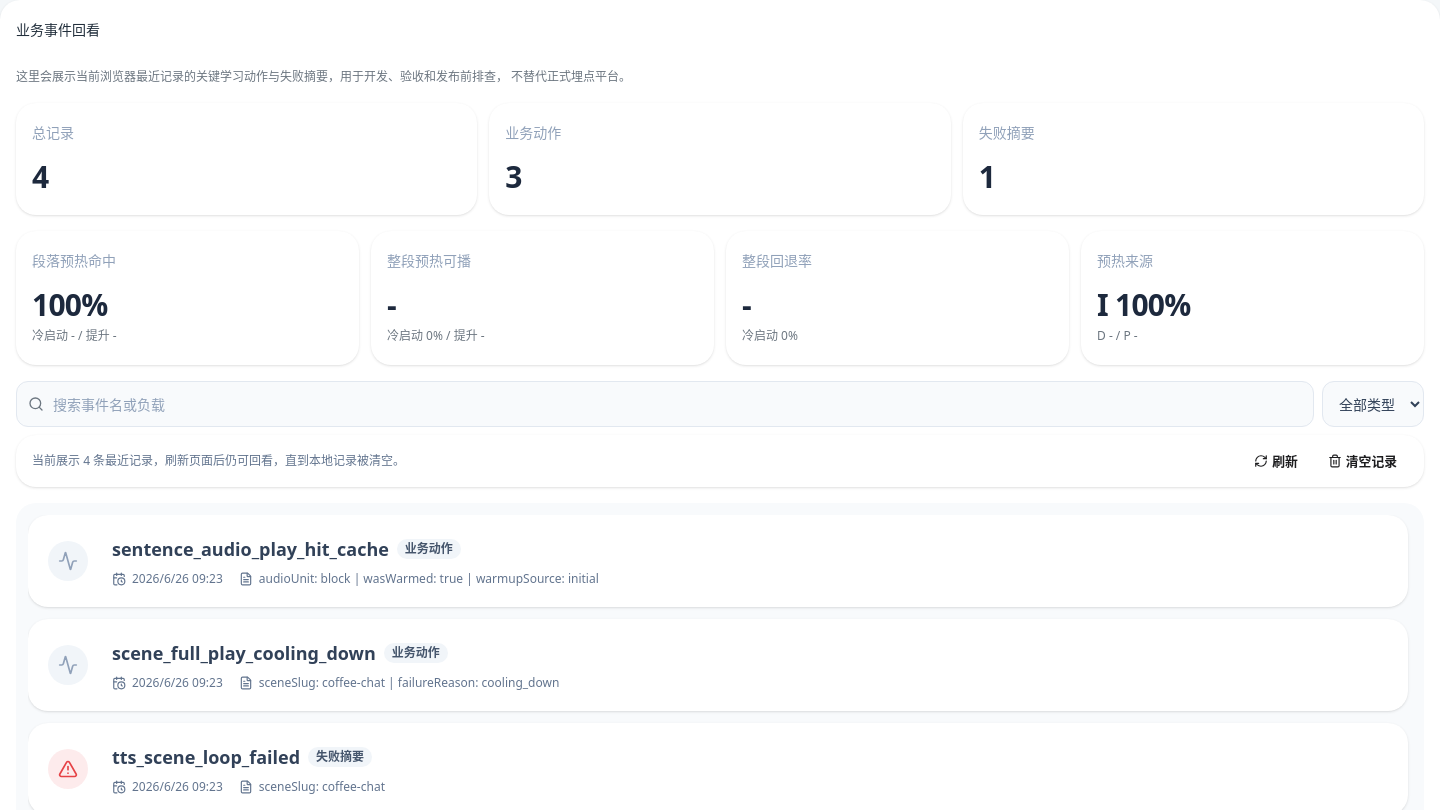
Test: ClientEventsPanel 会展示最近业务事件并支持筛选和清空
Expected: the text "段落预热命中" is shown, [32, 251, 116, 271]
Expected: the text "预热来源" is shown, [1097, 251, 1153, 271]
Select "失败摘要" in the dropdown showing "全部类型" at (1373, 404), box [1322, 381, 1424, 427]
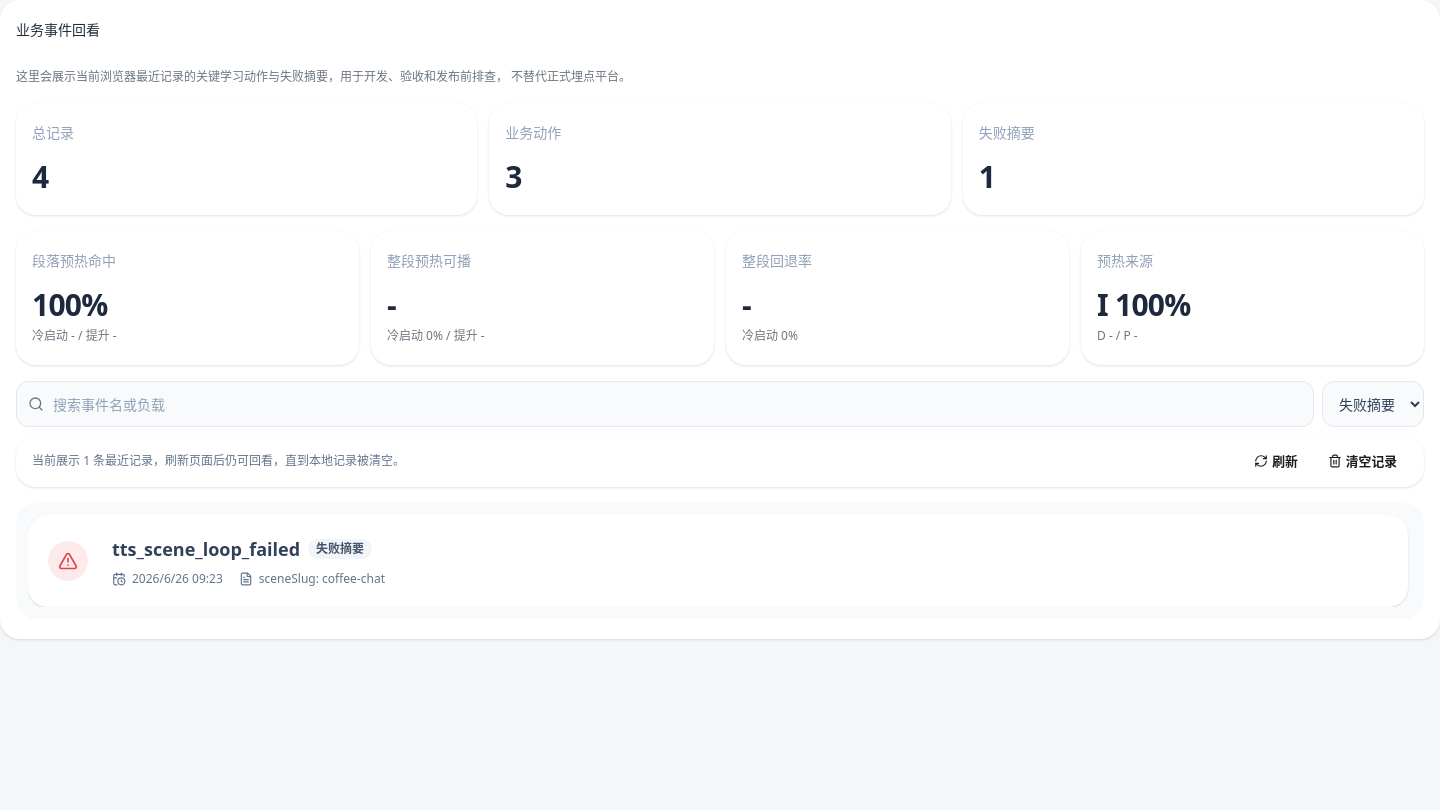
Expected: the text "tts_scene_loop_failed" is shown, [112, 535, 300, 563]
Click the button "清空记录" at (1362, 461), box [1317, 447, 1408, 475]
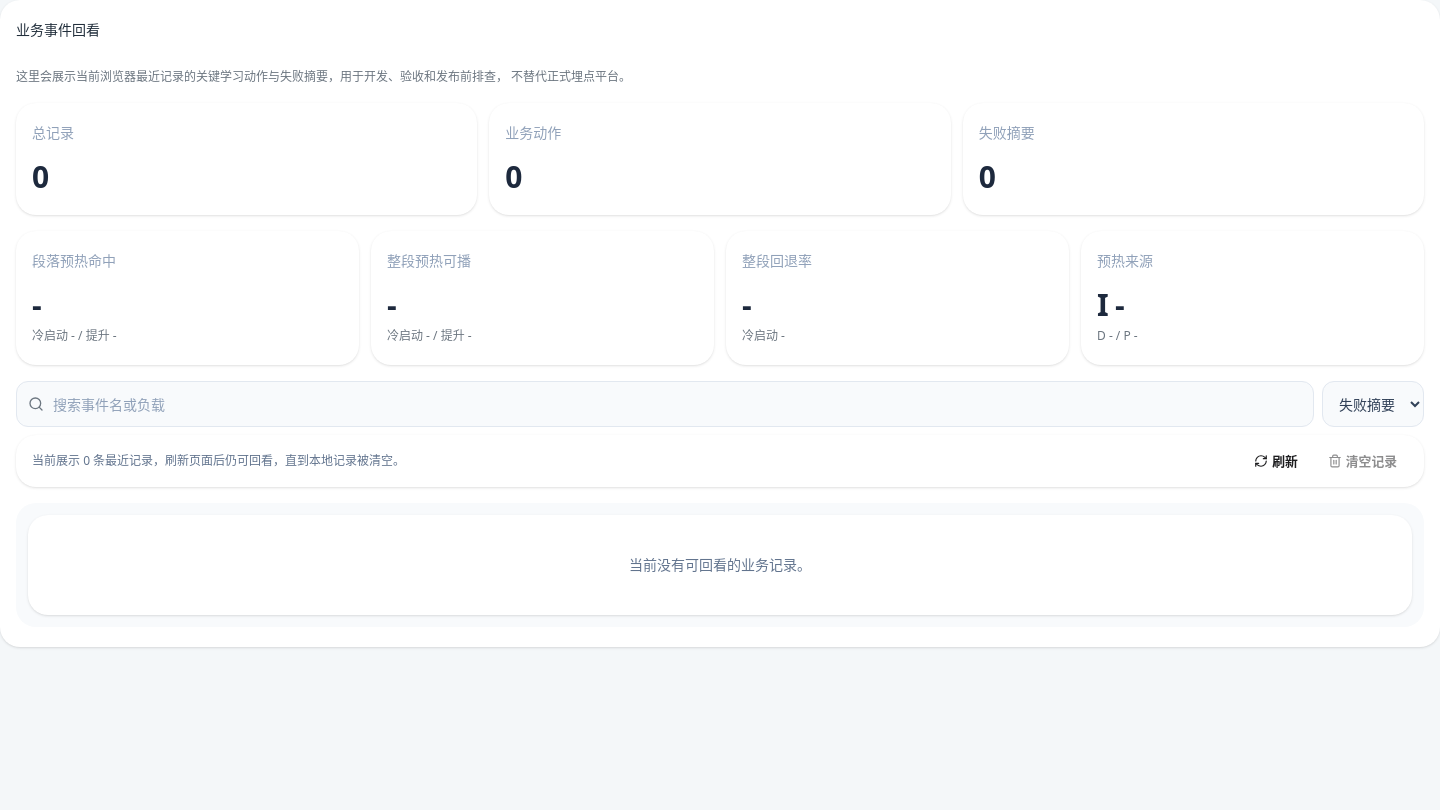
Expected: the text "当前没有可回看的业务记录。" is shown, [28, 515, 1412, 615]
